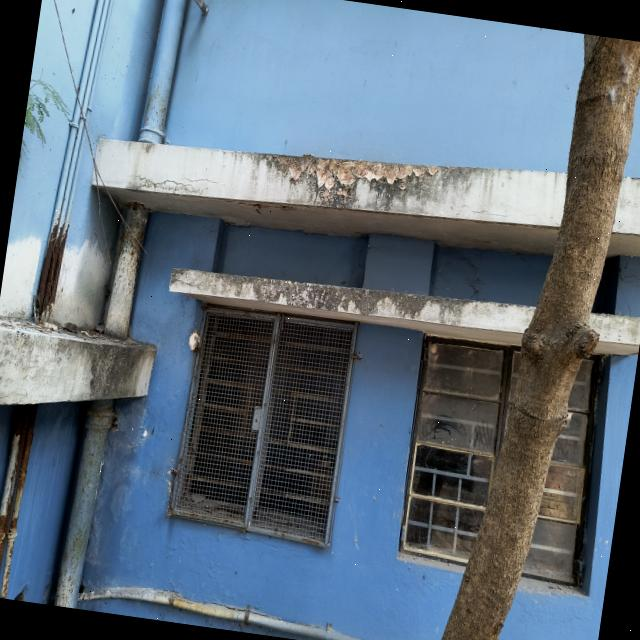Corrosion: (171, 305, 354, 541), (55, 400, 113, 608), (0, 404, 37, 599), (105, 203, 149, 338), (36, 224, 67, 321)
Crack: (128, 174, 194, 188), (179, 177, 231, 189), (617, 263, 640, 290)
Paint Peeling: (266, 154, 439, 206), (141, 78, 171, 134)
pollution -moisture induced blackening: (169, 269, 500, 327), (0, 324, 156, 400), (336, 166, 523, 215), (589, 312, 640, 345)
